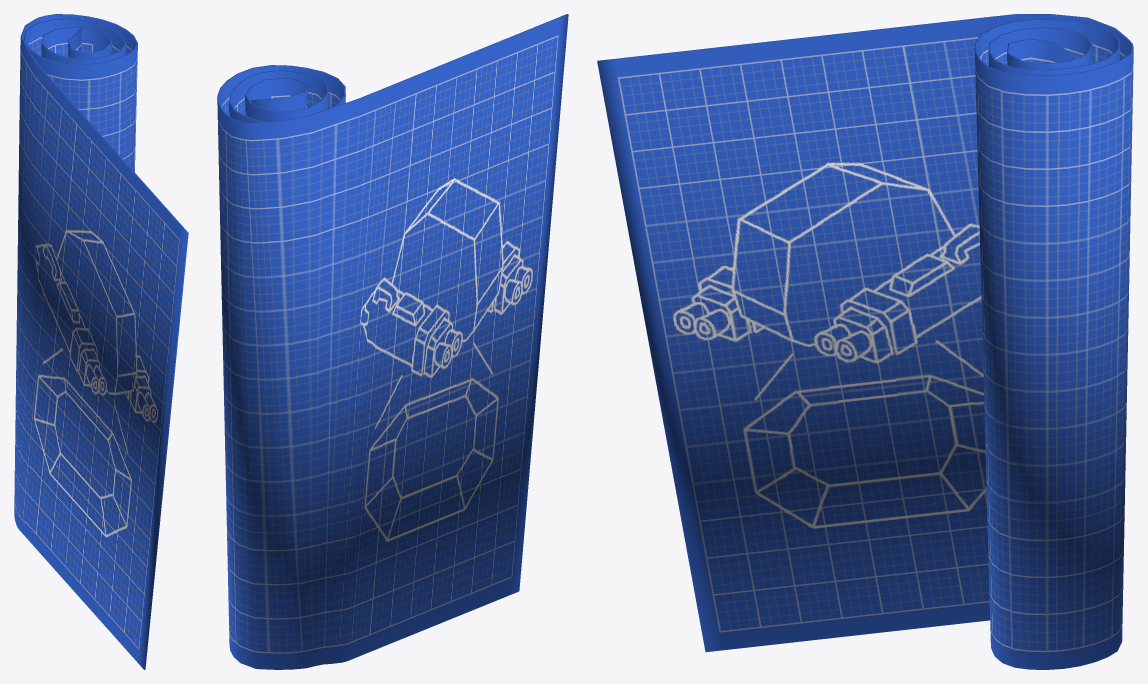
The model's file is plan.glb.
3 views of the same model, side by side, from view 1: azimuth 30°, elevation 25°; view 2: azimuth 150°, elevation 25°; view 3: azimuth 270°, elevation 25° (orthographic). The views are drawn at different scales.
Parts seen in each view (by area): view 1: Plane; view 2: Plane; view 3: Plane.
Part boxes in pixels (<box>): Plane: <box>14,14,188,669</box>; Plane: <box>217,14,568,669</box>; Plane: <box>597,14,1133,669</box>.
Bounding box in the file's own units: 0.5884 × 2.47 × 1.84.
Materials: 1 (1 with a texture image).
